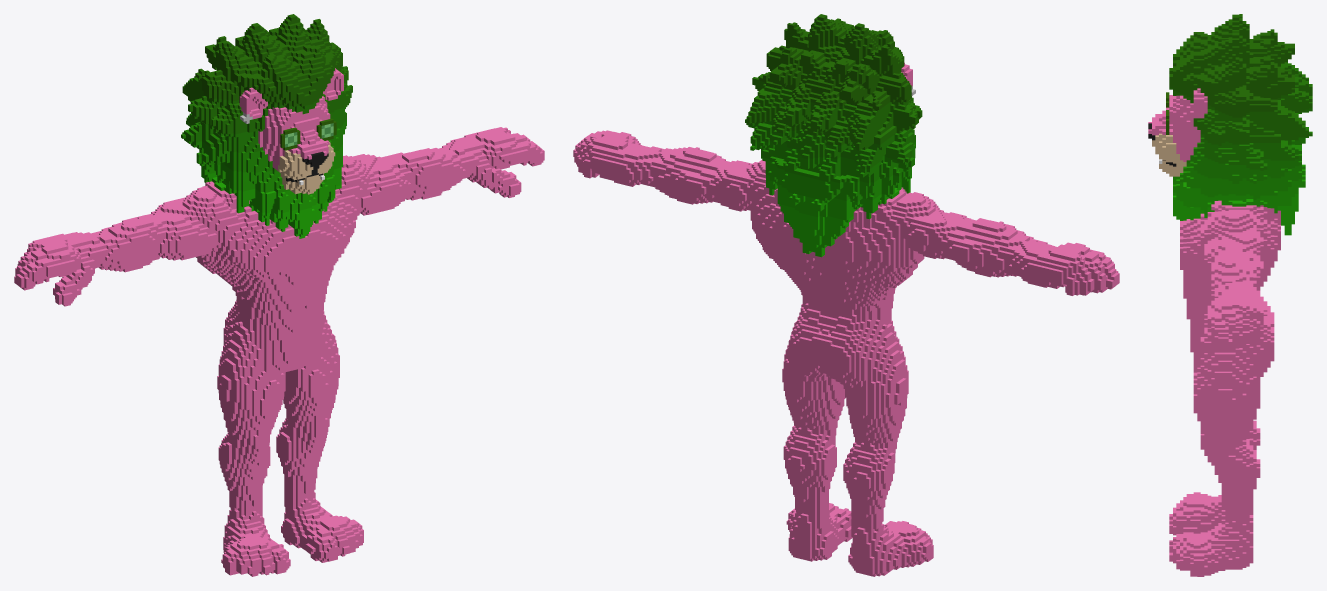
File: 699-C8sdE2Yx.glb
The picture shows the model from 3 angles, left to right: view 1: azimuth 30°, elevation 25°; view 2: azimuth 150°, elevation 25°; view 3: azimuth 270°, elevation 25°; orthographic projection. The views are drawn at different scales.
Visible parts, largest first — view 1: standard; view 2: standard; view 3: standard.
Part boxes in pixels (x1=…): standard: x1=14, y1=14, x2=544, y2=576; standard: x1=573, y1=14, x2=1119, y2=576; standard: x1=1148, y1=14, x2=1312, y2=576.
Bounding box in the file's own units: 17.2 × 16.5 × 4.7.
Materials: 5 (5 with a texture image).
